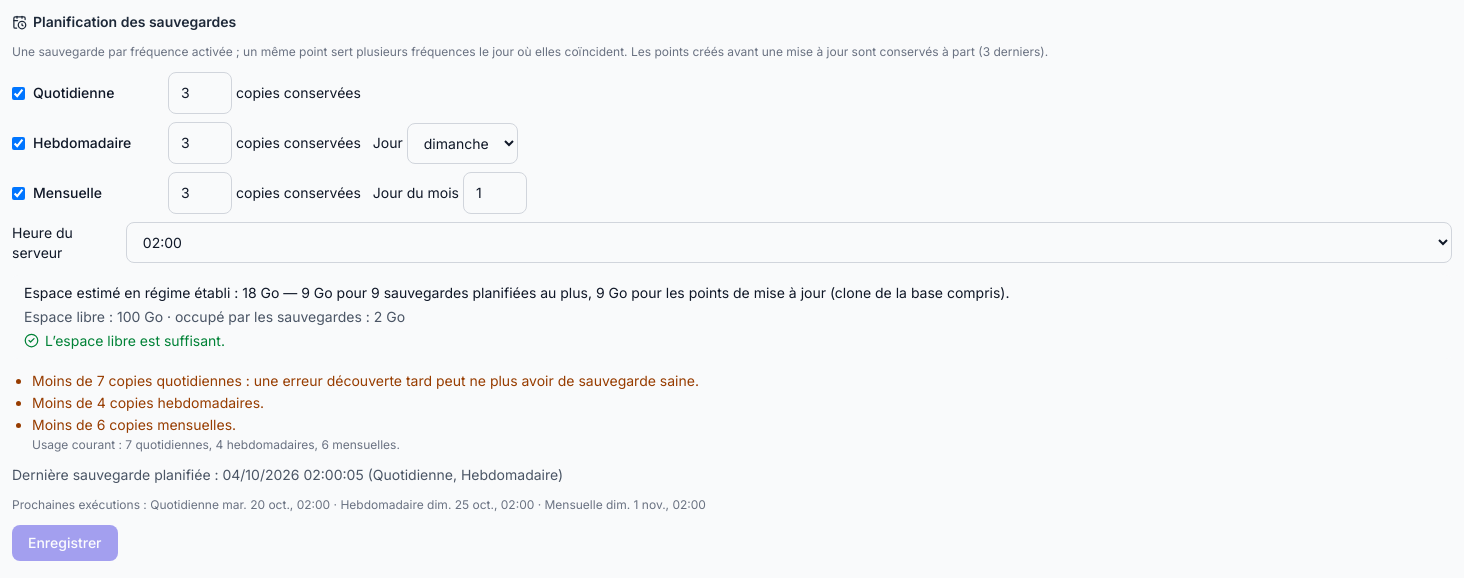
it: BackupSchedulePanel › erreur de la route affichée ; 409 « demande en attente » expliquée
The width and height of the screenshot is (1464, 578).
Replace the text in the number field named "Quotidienne — copies conservées" with "5" at (200, 93), box x1=168 y1=72 x2=232 y2=114
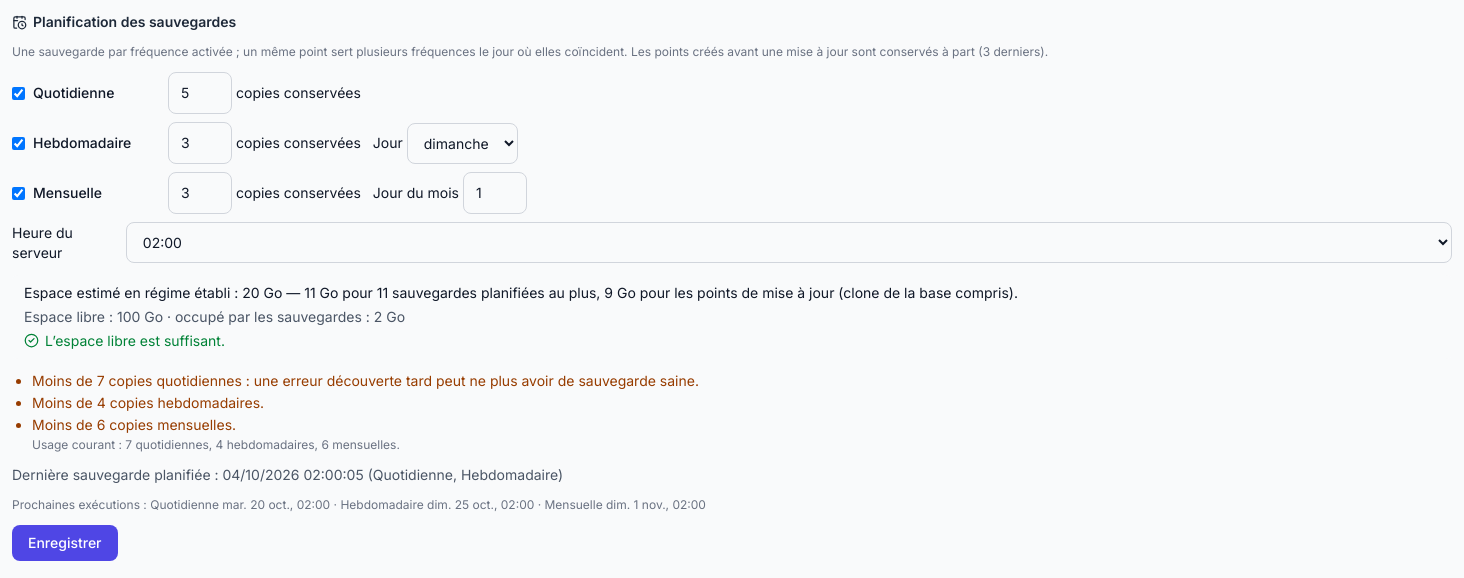
Click the button "Enregistrer" at (65, 543), box x1=12 y1=525 x2=118 y2=561
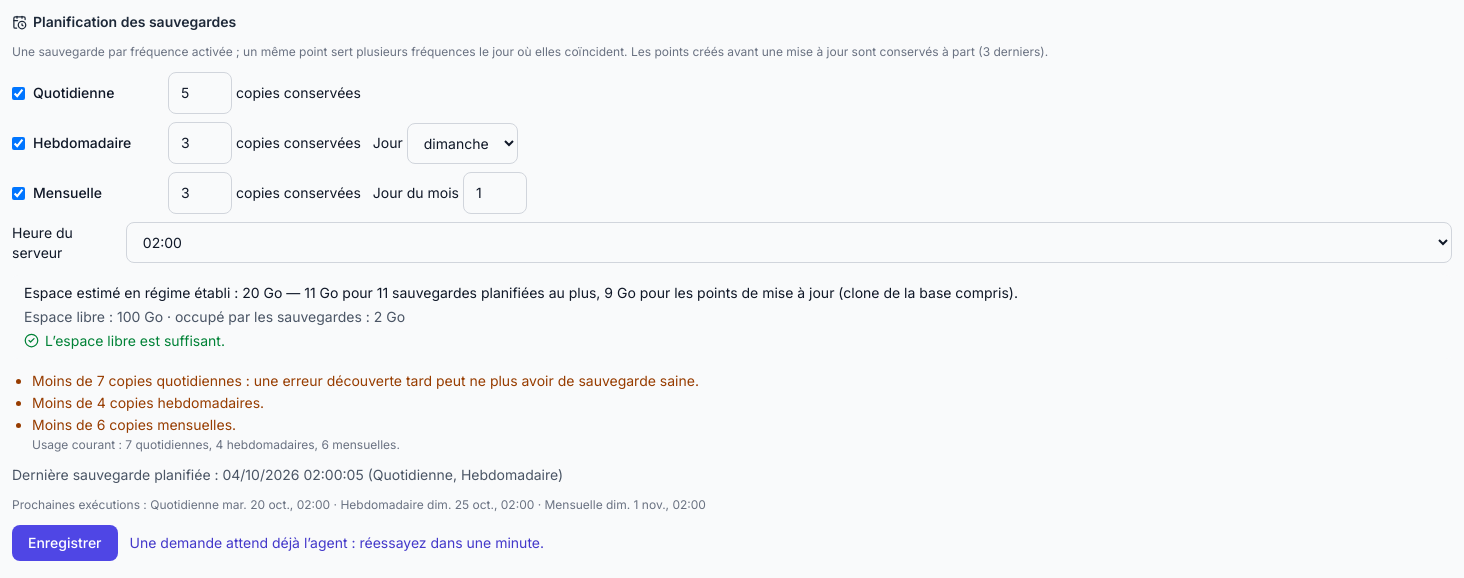
Expected: the text "Une demande attend déjà l’agent : réessayez dans une minute." is shown, x1=130 y1=533 x2=544 y2=553
